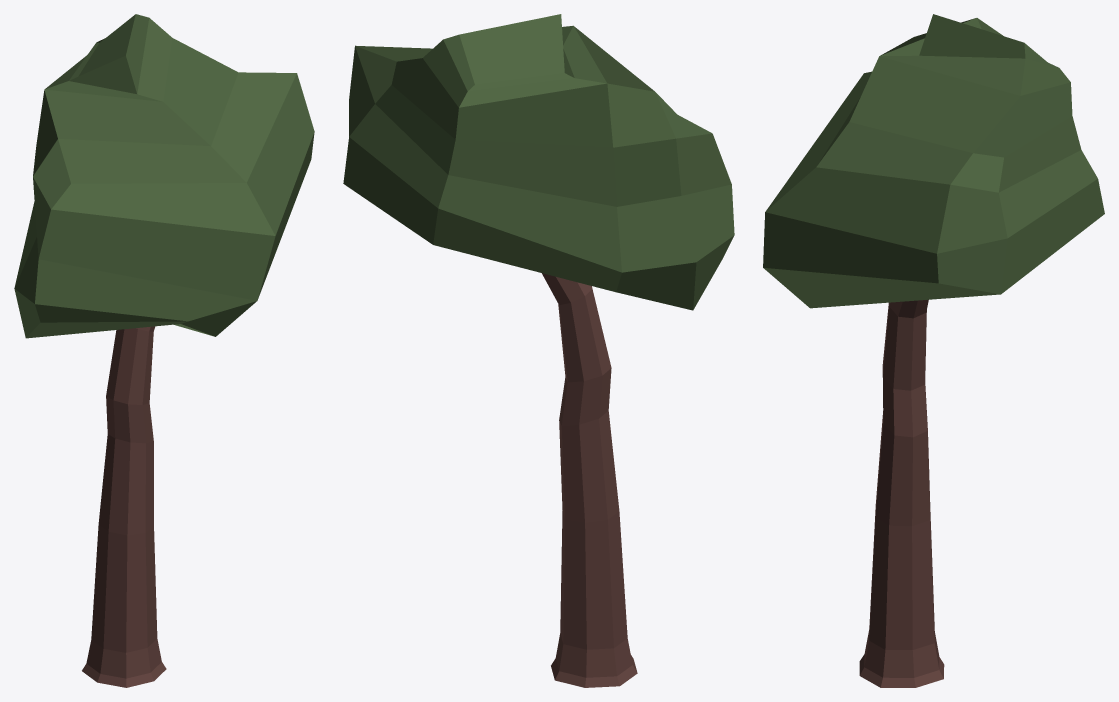
File: apple_2.gltf
3 views of the same model, side by side, from view 1: azimuth 30°, elevation 25°; view 2: azimuth 150°, elevation 25°; view 3: azimuth 270°, elevation 25° (orthographic). The views are drawn at different scales.
Visible parts, largest first — view 1: apple_2; view 2: apple_2; view 3: apple_2.
Part boxes in pixels (left/top/right/bottom): apple_2: left=14, top=14, right=314, bottom=687; apple_2: left=343, top=14, right=734, bottom=687; apple_2: left=763, top=14, right=1104, bottom=687.
Bounding box in the file's own units: 0.5149 × 0.9389 × 0.4378.
Materials: 1 (1 with a texture image).
